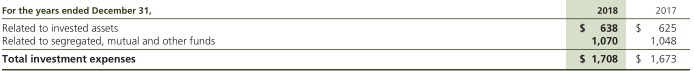column: (1, 1, 215, 71), (591, 1, 619, 71), (650, 1, 677, 71), (578, 1, 587, 71), (635, 1, 642, 71)
row: (1, 35, 694, 47), (1, 5, 694, 16), (1, 22, 694, 33), (1, 53, 694, 64)
